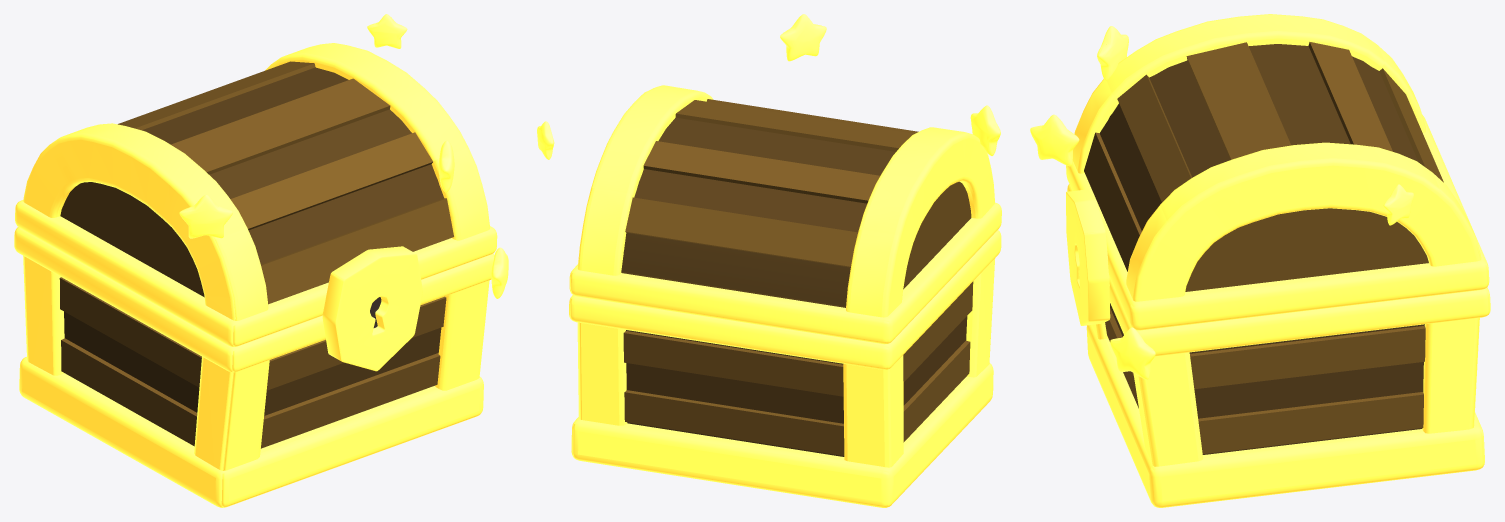
Rendered from africachest3.glb.
3 renders of one model, left to right at view 1: azimuth 30°, elevation 25°; view 2: azimuth 150°, elevation 25°; view 3: azimuth 270°, elevation 25°, orthographic. The views are drawn at different scales.
Visible parts, largest first — view 1: Box004.020; view 2: Box004.020; view 3: Box004.020.
Part boxes in pixels (<box>): Box004.020: <box>14,14,508,507</box>; Box004.020: <box>537,14,1001,507</box>; Box004.020: <box>1030,14,1490,507</box>.
Bounding box in the file's own units: 0.0134 × 0.0113 × 0.0133.
